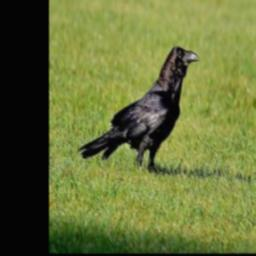Crow: (78, 43, 202, 175)
